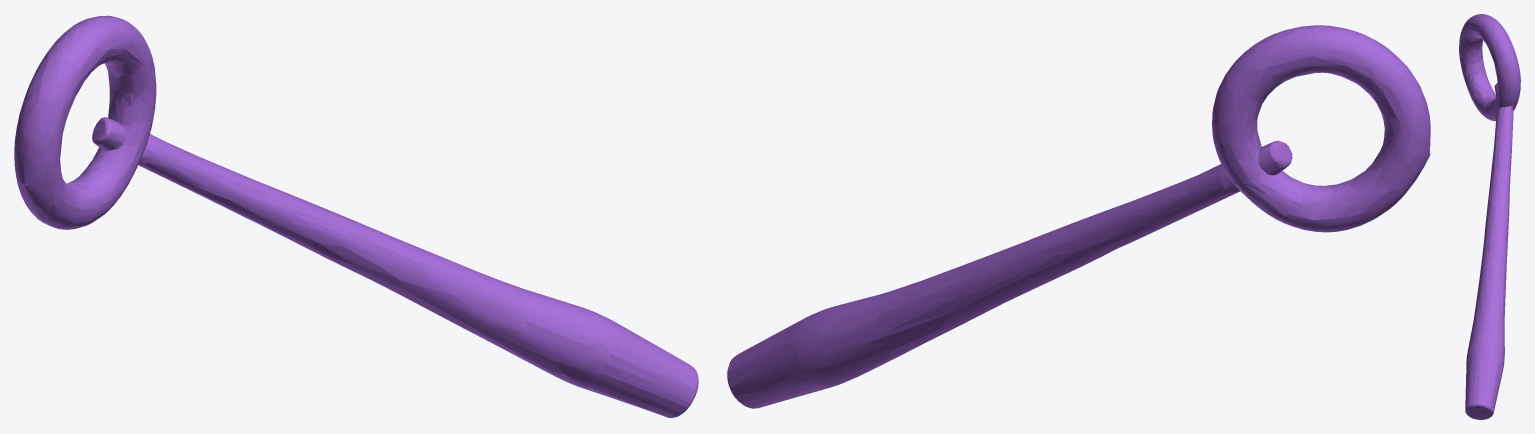
File: bubbleWand.18d37ac5.glb
3 renders of one model, left to right at view 1: azimuth 30°, elevation 25°; view 2: azimuth 150°, elevation 25°; view 3: azimuth 270°, elevation 25°, orthographic. The views are drawn at different scales.
Visible parts, largest first — view 1: output_unwrapped; view 2: output_unwrapped; view 3: output_unwrapped.
Part boxes in pixels (x1,y1,x2,y2): output_unwrapped: (14, 15, 698, 417); output_unwrapped: (727, 25, 1430, 408); output_unwrapped: (1459, 14, 1520, 419).
Bounding box in the file's own units: 1.9 × 1.39 × 0.2974.
1 material, 1 textured.
